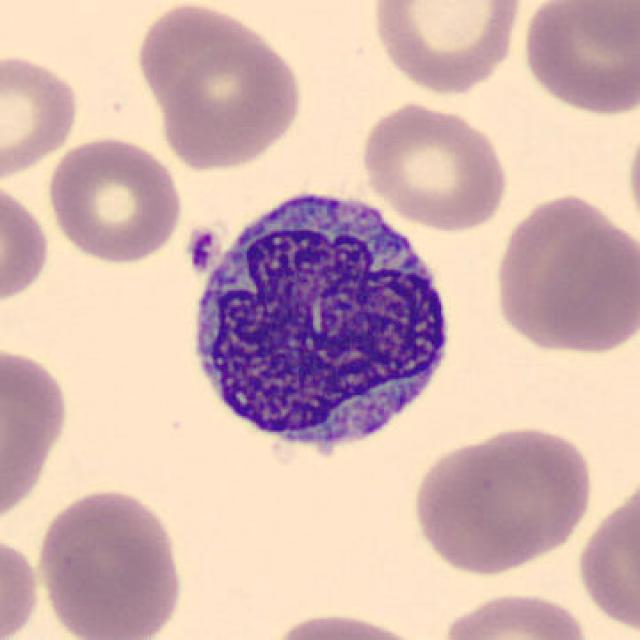Monocyte: (176, 173, 462, 478)
Platelets: (171, 215, 227, 279)
RBC: (407, 421, 597, 575), (34, 485, 186, 640), (153, 28, 306, 173), (357, 99, 512, 232), (44, 134, 185, 266), (530, 215, 640, 358), (368, 0, 524, 95), (518, 0, 638, 118), (0, 338, 73, 529), (0, 48, 84, 184), (572, 474, 638, 636), (436, 587, 594, 640), (0, 176, 53, 308), (257, 606, 435, 640), (0, 530, 42, 640), (622, 105, 640, 248), (171, 216, 208, 260)
